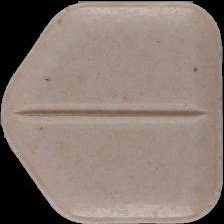57664-395: (0, 0, 224, 224)
